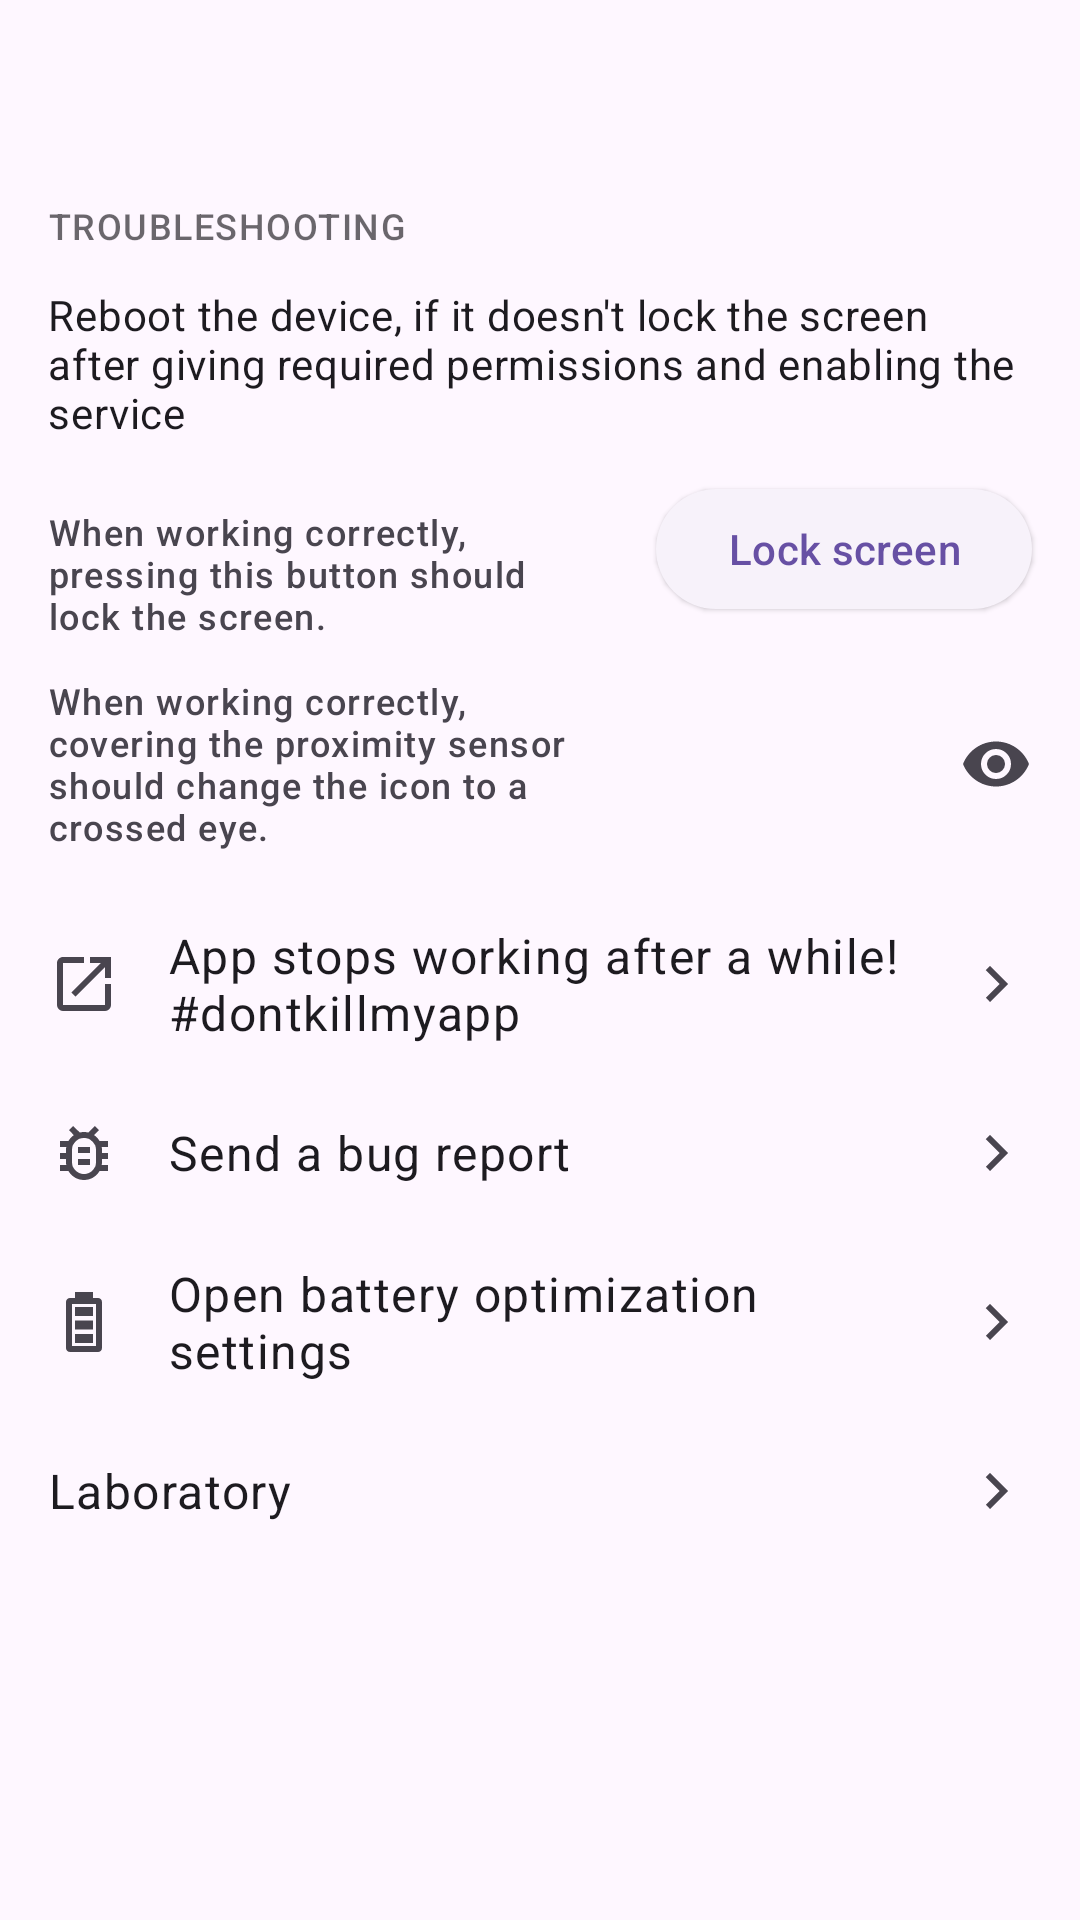

Icon click points for this 1080px x 1920px phone screenshot, format [x,y]:
eye: [996,764]
